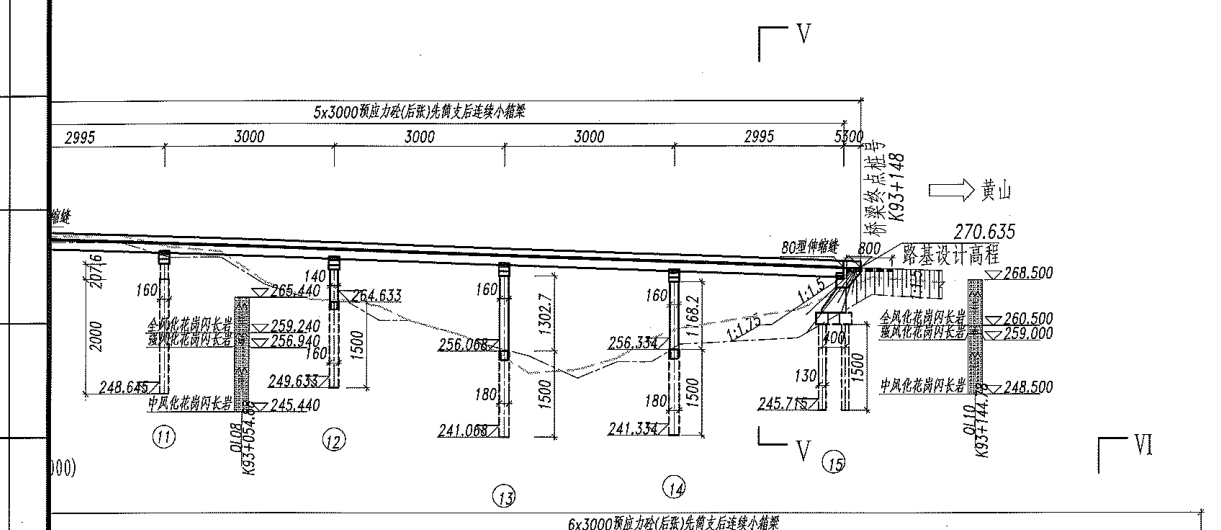A: (52, 85, 866, 109)
B: (57, 103, 855, 135)
C: (596, 266, 696, 503), (436, 259, 526, 508), (760, 310, 860, 483), (271, 253, 354, 460), (127, 247, 183, 450)
